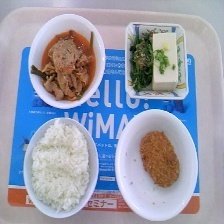rice: (28, 120, 92, 214)
